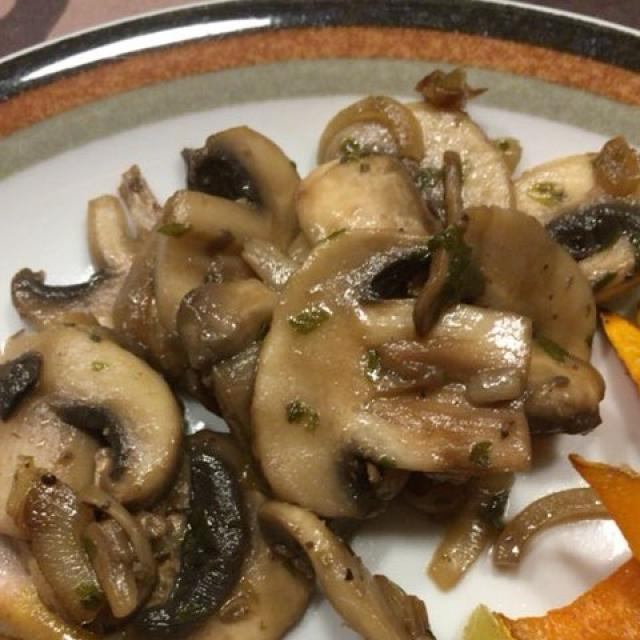mushrooms: (2, 98, 634, 634)
